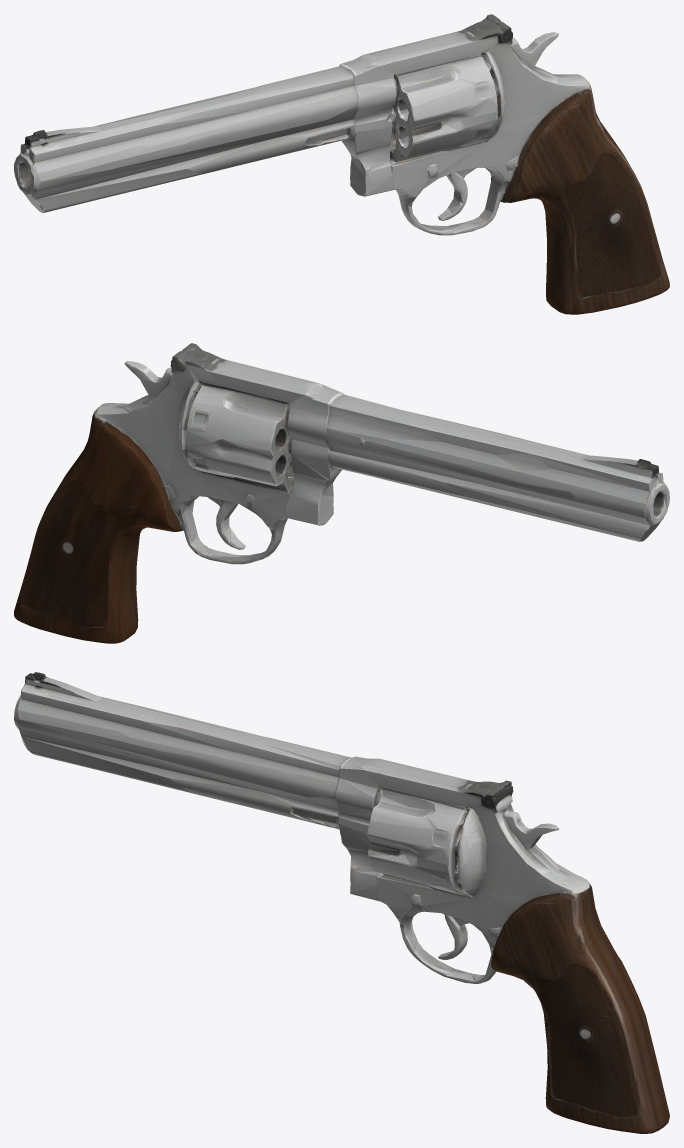
File: w-revolver.glb
3 renders of one model, top to bottom at view 1: azimuth 30°, elevation 25°; view 2: azimuth 150°, elevation 25°; view 3: azimuth 330°, elevation 25°, orthographic.
Bounding box in the file's own units: 1.9 × 0.8647 × 0.2537.
1 material, 1 textured.
